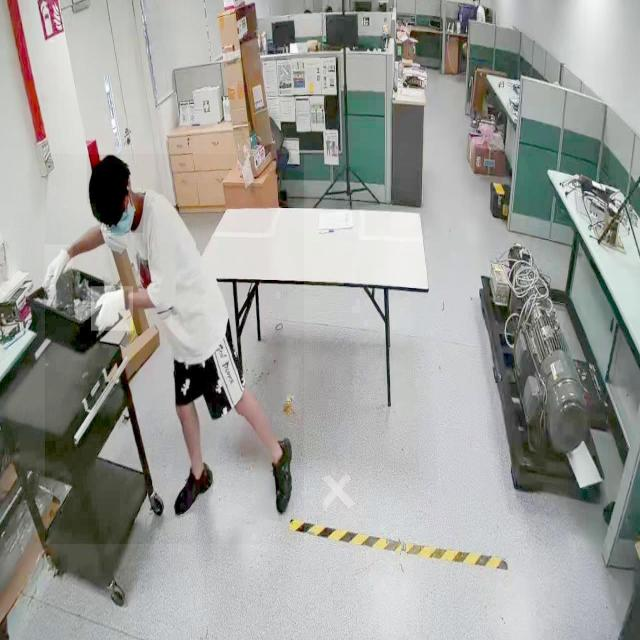face_mask: (100, 189, 144, 233)
hand_glove: (91, 286, 133, 331), (44, 245, 72, 308)
head_nohelmet: (87, 154, 121, 204)
person: (45, 154, 305, 545)
shoes: (173, 458, 214, 520), (269, 438, 295, 512)
